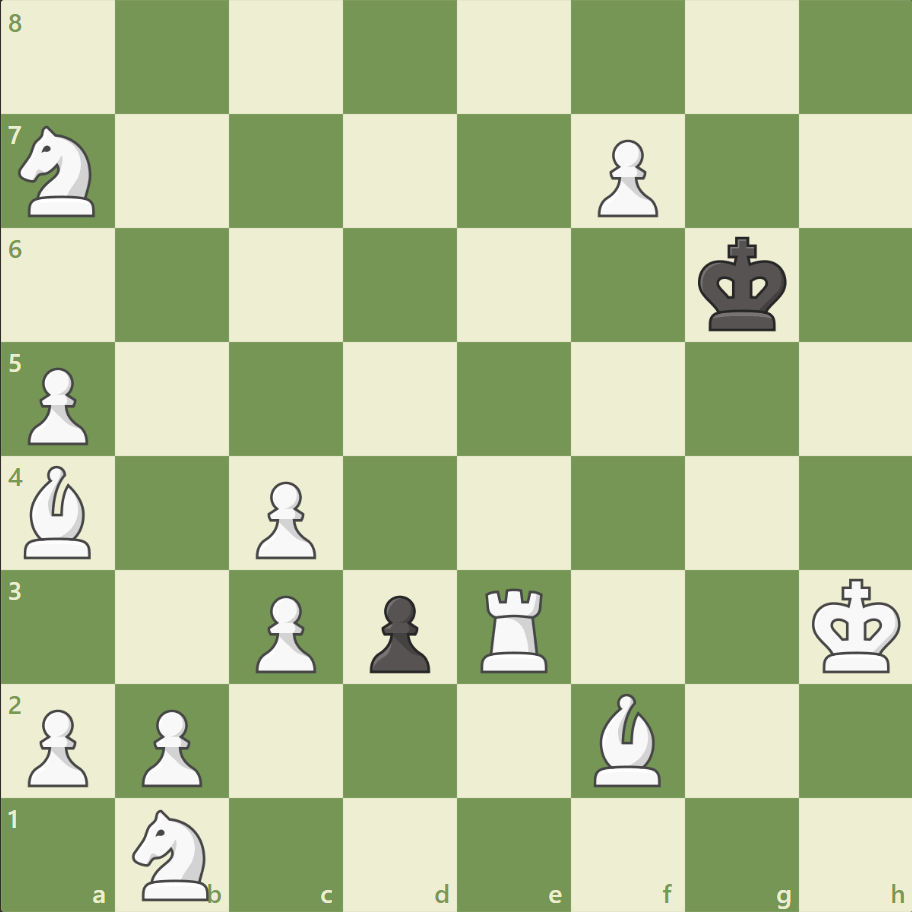B: (17, 460, 101, 563), (585, 687, 669, 790)
K: (806, 571, 906, 679)
N: (124, 802, 222, 904), (11, 121, 108, 223)
P: (20, 359, 95, 450), (247, 473, 322, 564), (247, 586, 322, 677), (20, 700, 95, 791), (133, 700, 208, 791), (588, 132, 662, 223)
R: (473, 579, 556, 676)
k: (692, 231, 792, 339)
p: (361, 586, 435, 677)
